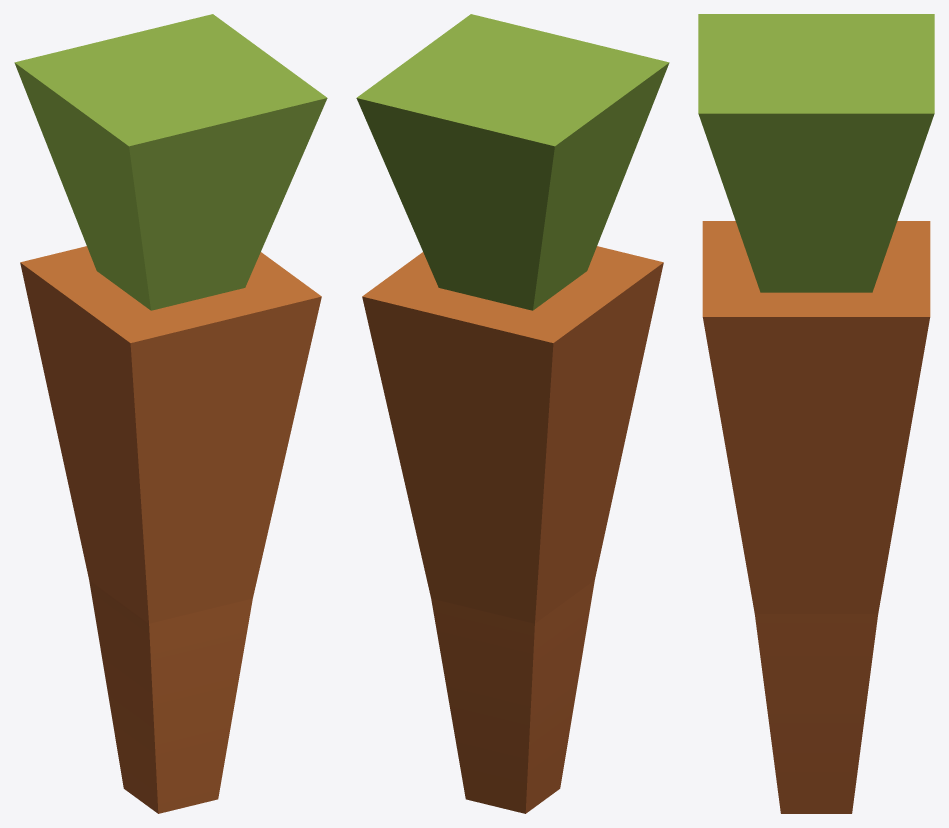
File: Env_Plant_Carrot.fbx
3 renders of one model, left to right at view 1: azimuth 30°, elevation 25°; view 2: azimuth 150°, elevation 25°; view 3: azimuth 270°, elevation 25°, orthographic. The views are drawn at different scales.
Visible parts, largest first — view 1: Env_Plant_Carrot; view 2: Env_Plant_Carrot; view 3: Env_Plant_Carrot.
Part boxes in pixels (<box>): Env_Plant_Carrot: <box>14,14,327,813</box>; Env_Plant_Carrot: <box>356,14,669,813</box>; Env_Plant_Carrot: <box>698,14,934,813</box>.
Bounding box in the file's own units: 0.342 × 1.17 × 0.342.
Materials: 1 (1 with a texture image).
